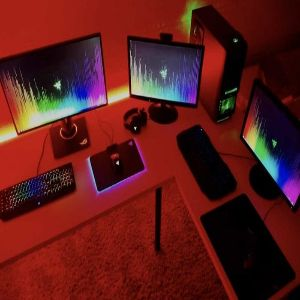headset: (117, 103, 153, 133)
keyboard: (1, 161, 80, 220)
mouse: (103, 143, 123, 169)
